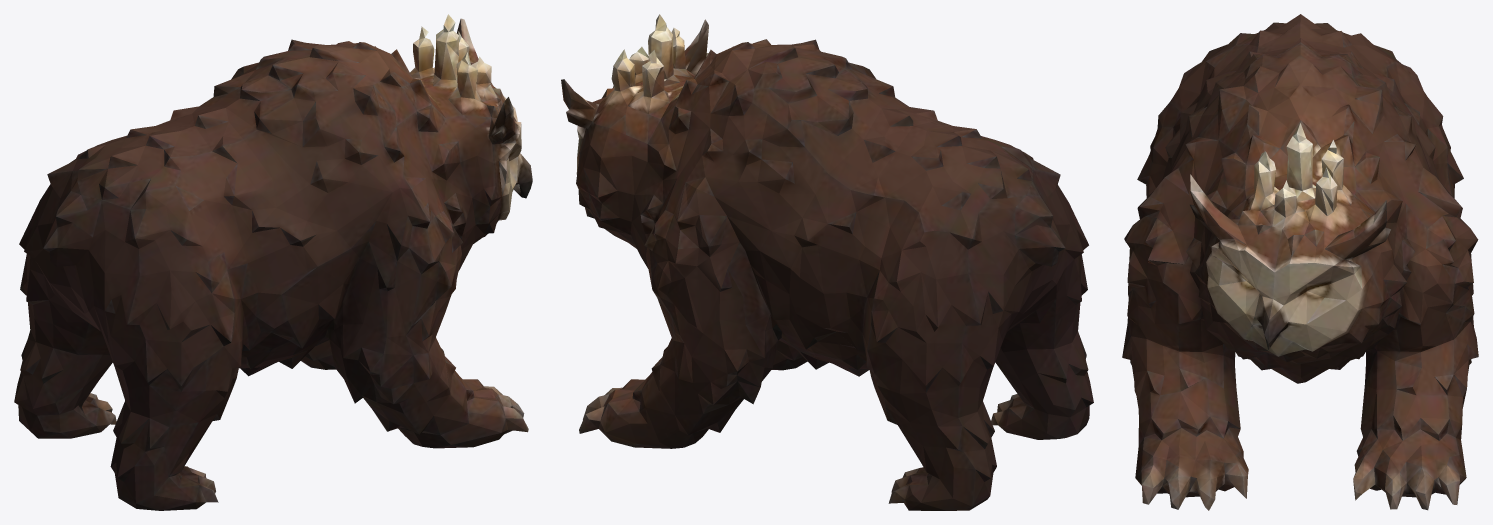
File: foe_warden.glb
3 renders of one model, left to right at view 1: azimuth 30°, elevation 25°; view 2: azimuth 150°, elevation 25°; view 3: azimuth 270°, elevation 25°, orthographic. The views are drawn at different scales.
Parts seen in each view (by area): view 1: tripo_node_13ce4af6-b4cd-495a-9565-28d52eceeb9f.001; view 2: tripo_node_13ce4af6-b4cd-495a-9565-28d52eceeb9f.001; view 3: tripo_node_13ce4af6-b4cd-495a-9565-28d52eceeb9f.001.
Boxes of the visible parts, x1=… form: tripo_node_13ce4af6-b4cd-495a-9565-28d52eceeb9f.001: x1=14, y1=14, x2=532, y2=510; tripo_node_13ce4af6-b4cd-495a-9565-28d52eceeb9f.001: x1=561, y1=14, x2=1093, y2=510; tripo_node_13ce4af6-b4cd-495a-9565-28d52eceeb9f.001: x1=1122, y1=14, x2=1478, y2=510.
Size of the model in its own units: 0.9953 by 0.7452 by 0.6246.
1 material, 1 textured.
